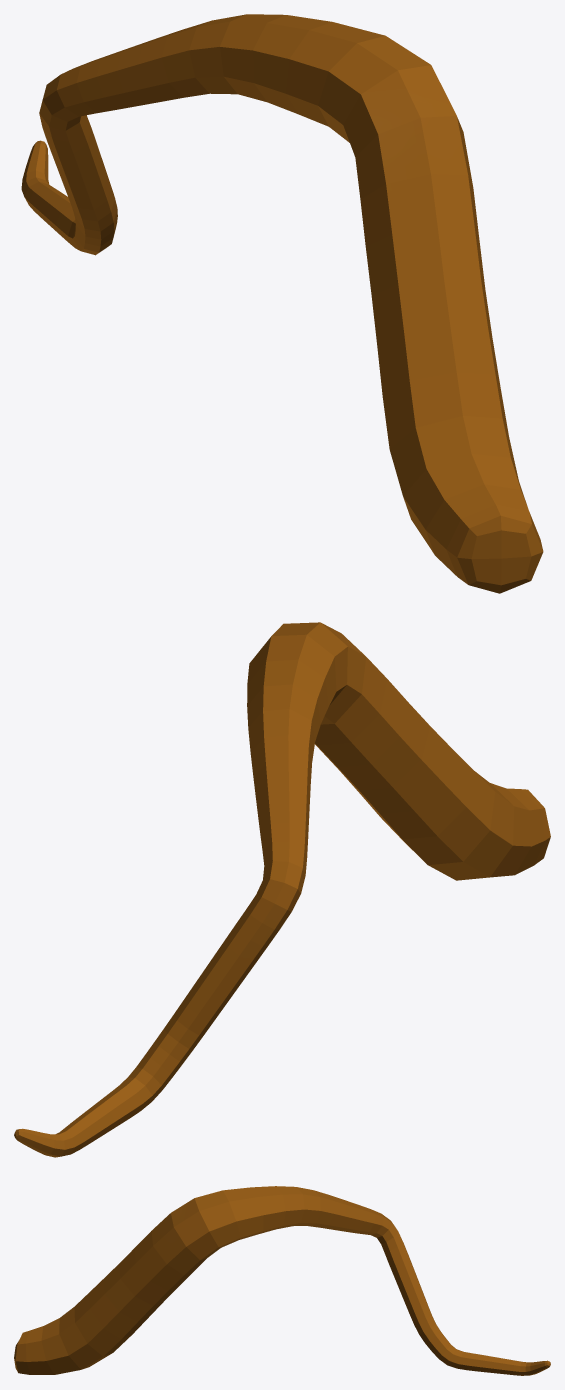
The model's file is Roots_1.fbx.
The picture shows the model from 3 angles, top to bottom: view 1: azimuth 30°, elevation 25°; view 2: azimuth 150°, elevation 25°; view 3: azimuth 270°, elevation 25°; orthographic projection. The views are drawn at different scales.
Parts seen in each view (by area): view 1: Plane; view 2: Plane; view 3: Plane.
Part boxes in pixels (left/top/right/bottom): Plane: left=21, top=14, right=543, bottom=593; Plane: left=14, top=622, right=550, bottom=1157; Plane: left=14, top=1186, right=550, bottom=1375.
Bounding box in the file's own units: 218 × 368 × 912.
